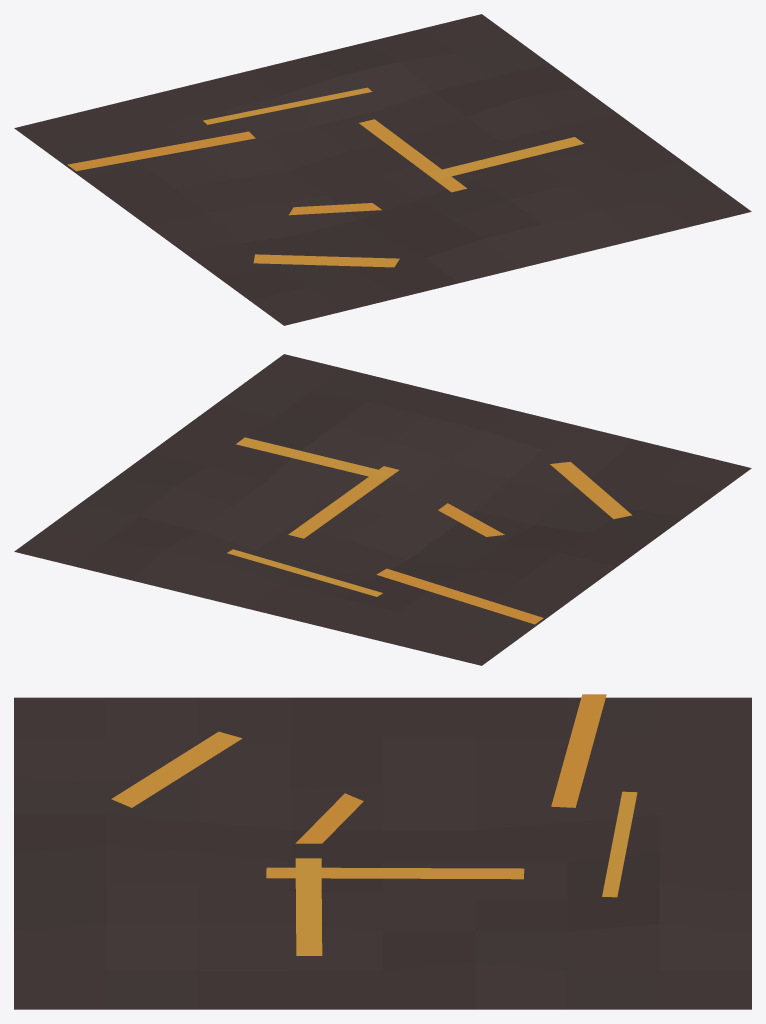
Rendered from lava_v2_lowpoly.glb.
The picture shows the model from 3 angles, top to bottom: view 1: azimuth 30°, elevation 25°; view 2: azimuth 150°, elevation 25°; view 3: azimuth 270°, elevation 25°; orthographic projection. The views are drawn at different scales.
Parts seen in each view (by area): view 1: Lava_v2Tile; view 2: Lava_v2Tile; view 3: Lava_v2Tile.
Boxes of the visible parts, x1,y1,x2,y2 form: Lava_v2Tile: [14, 14, 751, 325]; Lava_v2Tile: [14, 354, 751, 665]; Lava_v2Tile: [14, 694, 751, 1009].
Bounding box in the file's own units: 1 × 0.039 × 1.
